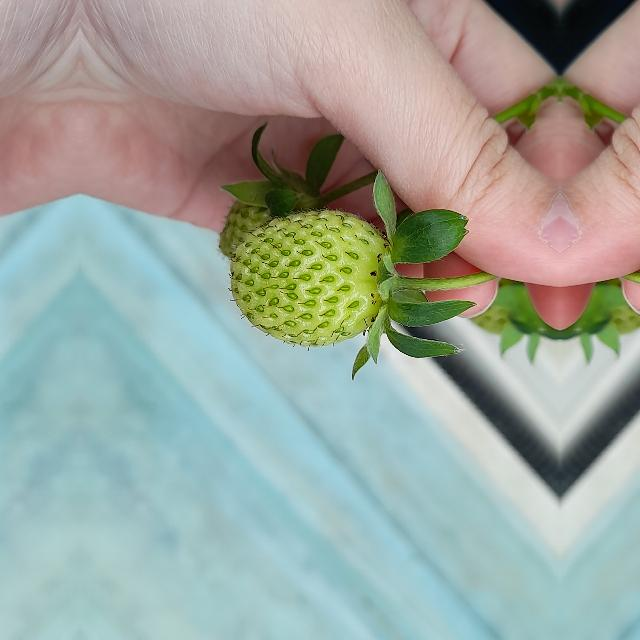Health_25: (230, 210, 390, 346)
